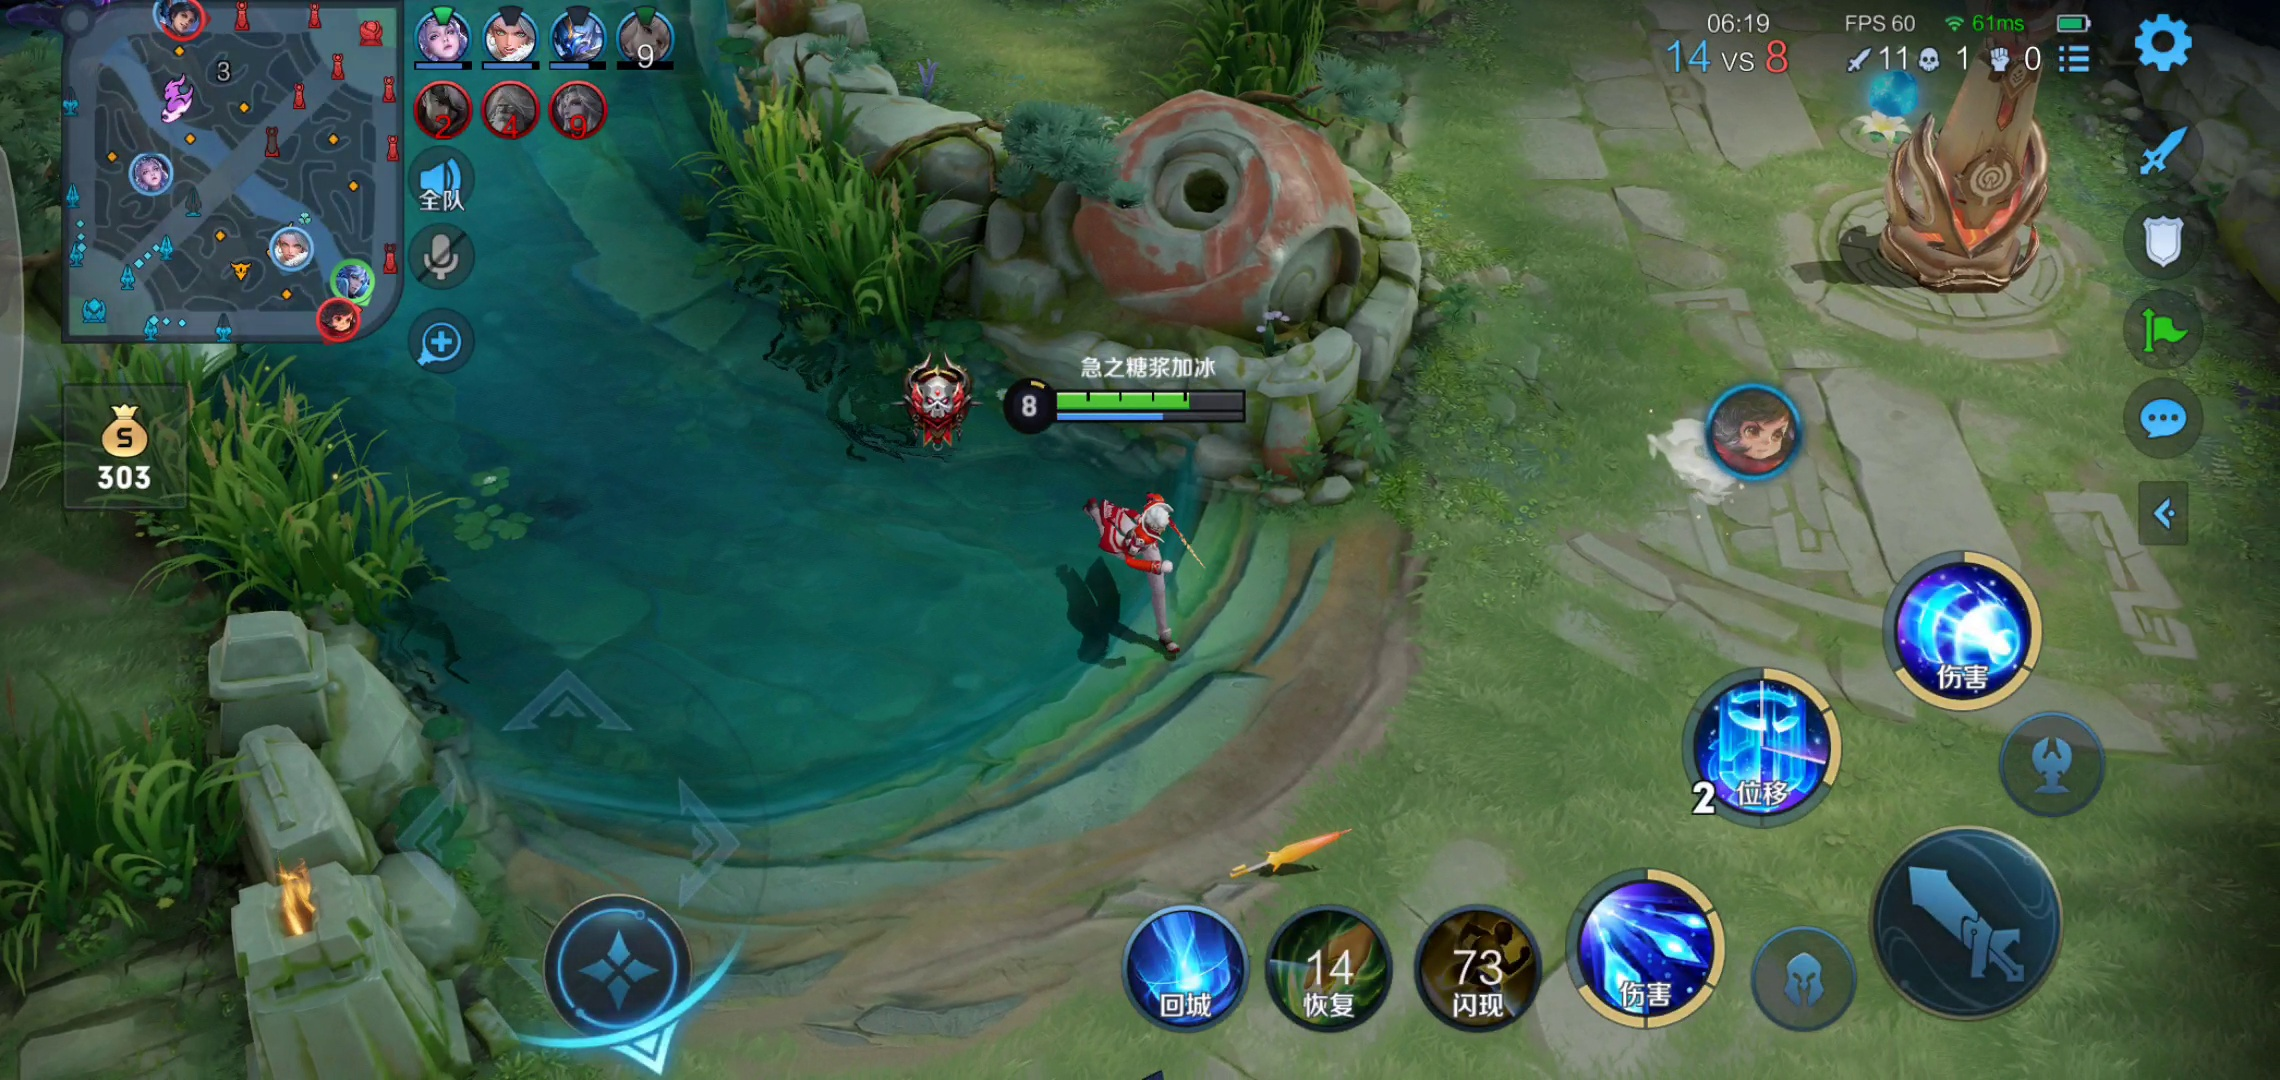grass: (80, 358, 398, 626), (678, 93, 920, 336), (1, 728, 238, 959), (1155, 15, 1339, 116)
hero: (1073, 459, 1208, 656)
tower: (1871, 9, 2124, 285)
